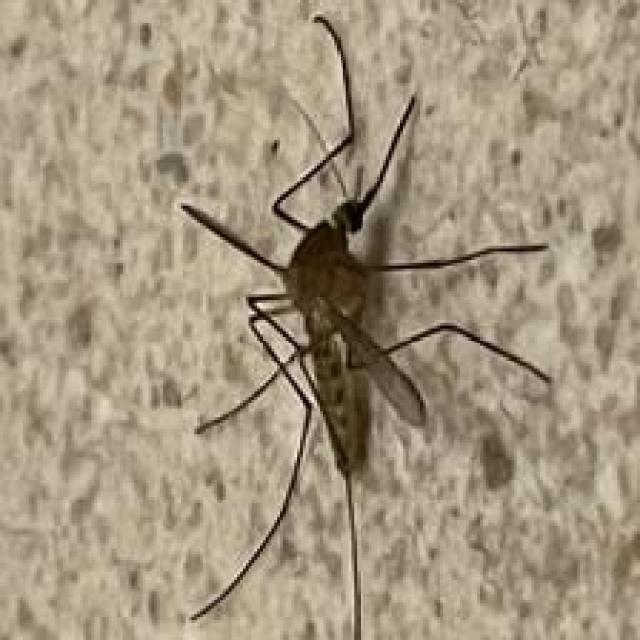Culex: (176, 11, 553, 640)
